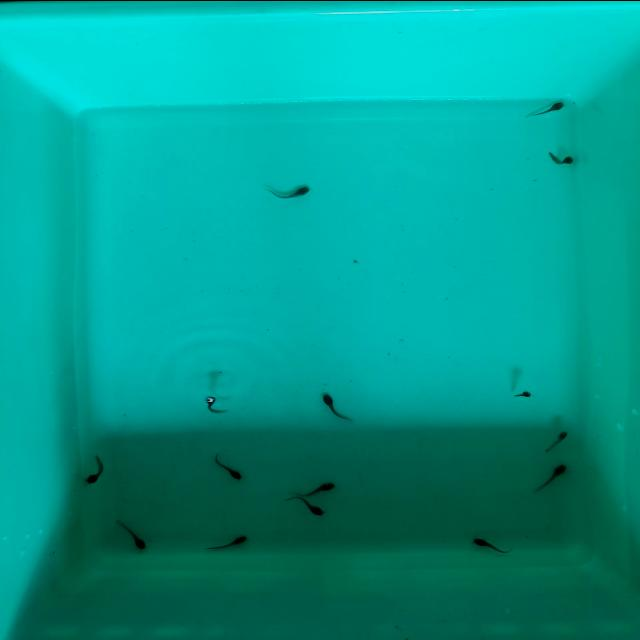lele: (111, 516, 154, 552), (531, 461, 572, 495), (207, 450, 249, 483), (317, 390, 357, 424), (287, 492, 332, 520), (467, 534, 519, 556), (540, 427, 574, 455), (294, 481, 338, 497), (86, 452, 105, 486), (269, 186, 312, 200), (208, 536, 248, 550), (541, 152, 576, 166), (206, 394, 230, 414), (532, 101, 566, 115), (509, 390, 534, 398)
